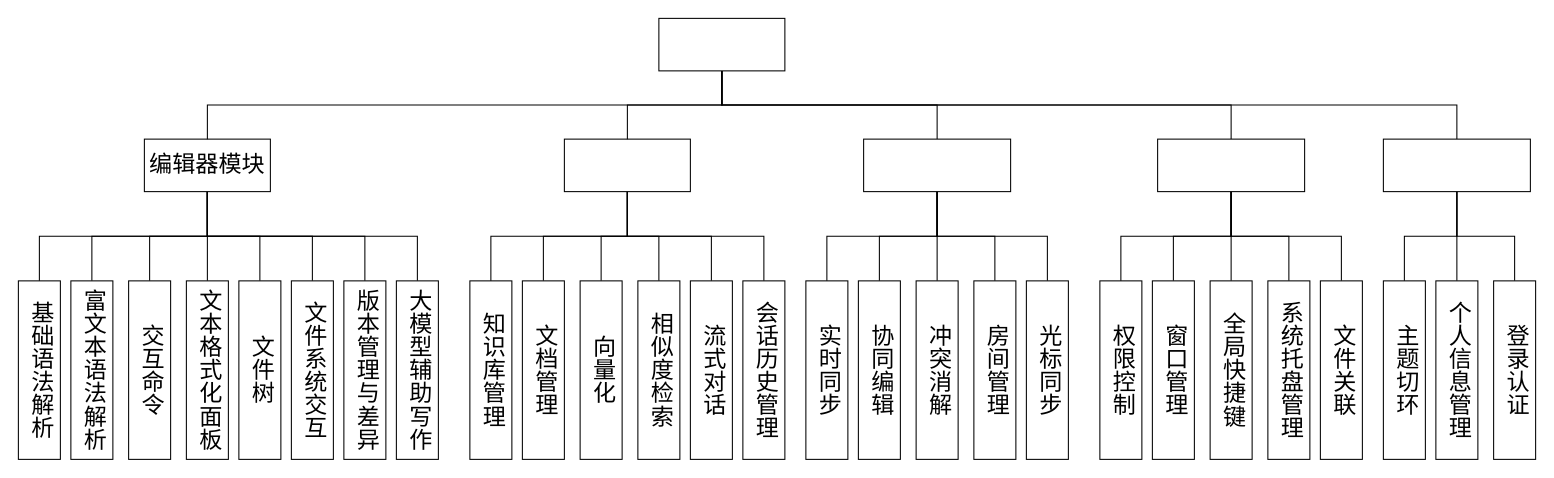
Image size: 1554x478. Some labels were removed from this diagram. Here are the shapes that lost their labels. From the top down, the centre of each, then its label:
At point (721, 44): "zmark系统".
At point (626, 165): "知识库模块".
At point (937, 165): "协同编辑模块".
At point (1231, 165): "桌面能力".
At point (1456, 165): "系统配置".
